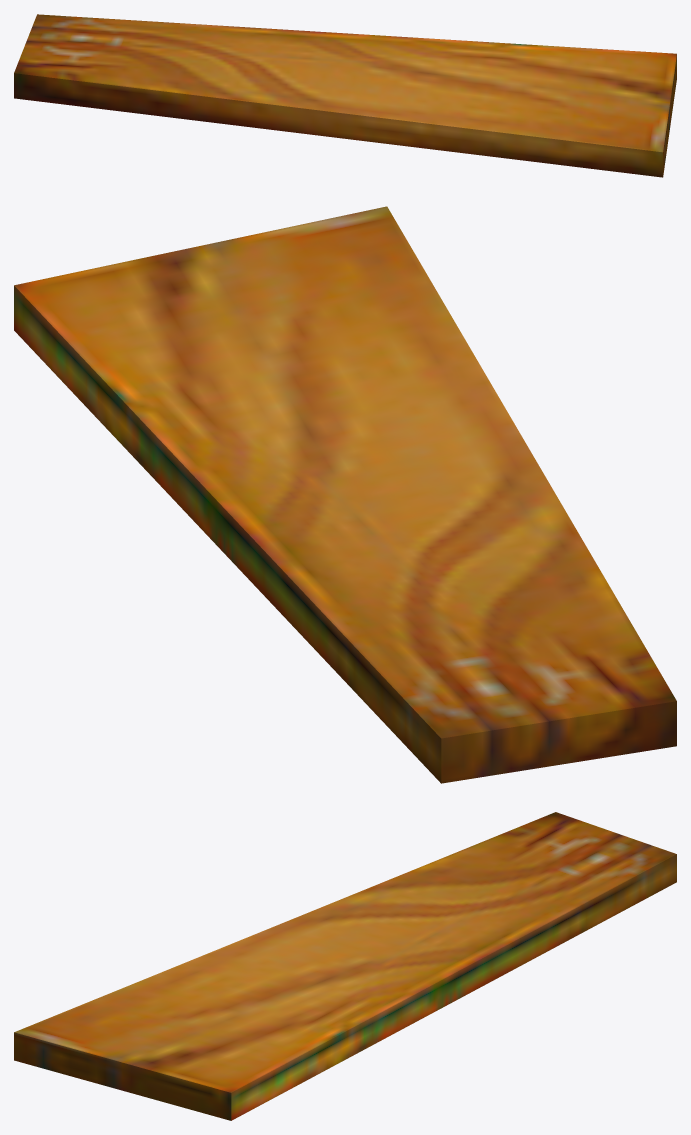
Rendered from wood02.fbx.
3 renders of one model, top to bottom at view 1: azimuth 30°, elevation 25°; view 2: azimuth 150°, elevation 25°; view 3: azimuth 270°, elevation 25°, orthographic. The views are drawn at different scales.
Visible parts, largest first — view 1: Box010; view 2: Box010; view 3: Box010.
Boxes of the visible parts, <box> form: Box010: <box>14,14,676,177</box>; Box010: <box>14,206,676,783</box>; Box010: <box>14,812,676,1120</box>.
Size of the model in its own units: 269 by 12.56 by 268.
